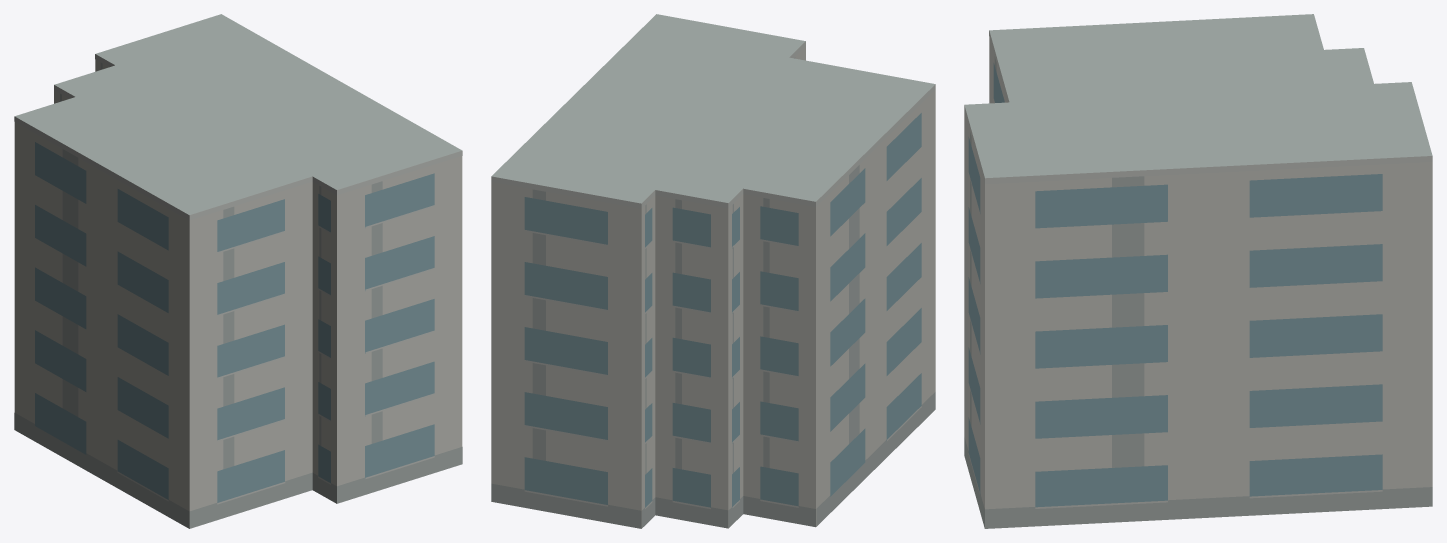
Rendered from survey-upis-32762975.glb.
3 views of the same model, side by side, from view 1: azimuth 30°, elevation 25°; view 2: azimuth 150°, elevation 25°; view 3: azimuth 270°, elevation 25° (orthographic). The views are drawn at different scales.
Parts seen in each view (by area): view 1: survey-upis-32762975.tmp; view 2: survey-upis-32762975.tmp; view 3: survey-upis-32762975.tmp.
Boxes of the visible parts, bbox=[...] form: survey-upis-32762975.tmp: bbox=[14, 14, 462, 528]; survey-upis-32762975.tmp: bbox=[491, 14, 935, 528]; survey-upis-32762975.tmp: bbox=[964, 14, 1432, 528].
Size of the model in its own units: 14.37 by 14.3 by 17.32.
